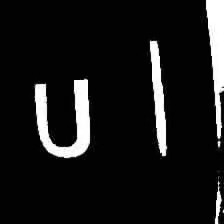LTR_U: (26, 72, 103, 164)
